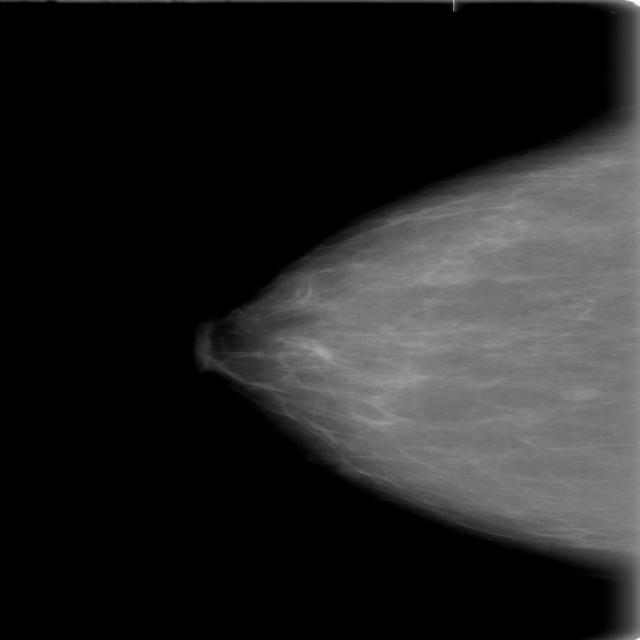normal: (196, 81, 640, 560)
